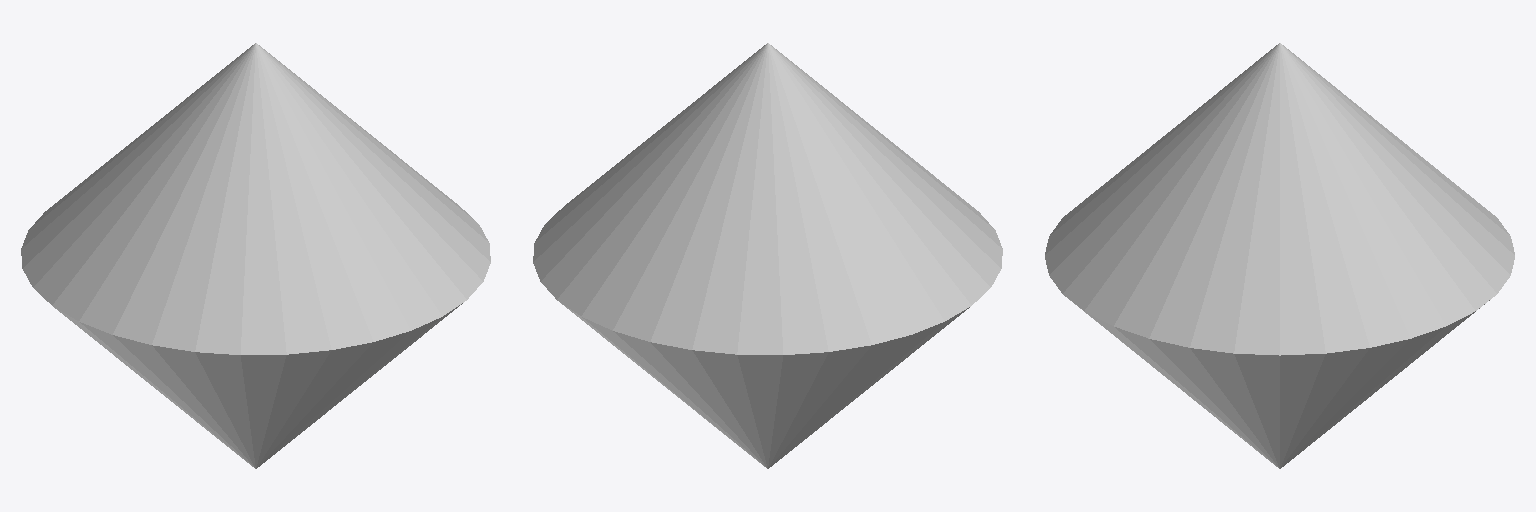
The model's file is top.obj.
3 renders of one model, left to right at view 1: azimuth 30°, elevation 25°; view 2: azimuth 150°, elevation 25°; view 3: azimuth 270°, elevation 25°, orthographic.
Parts seen in each view (by area): view 1: Cylinder; view 2: Cylinder; view 3: Cylinder.
Part boxes in pixels (bbox=[...]): Cylinder: bbox=[21, 43, 490, 468]; Cylinder: bbox=[533, 43, 1002, 468]; Cylinder: bbox=[1045, 43, 1514, 468].
Bounding box in the file's own units: 2 × 2 × 2.